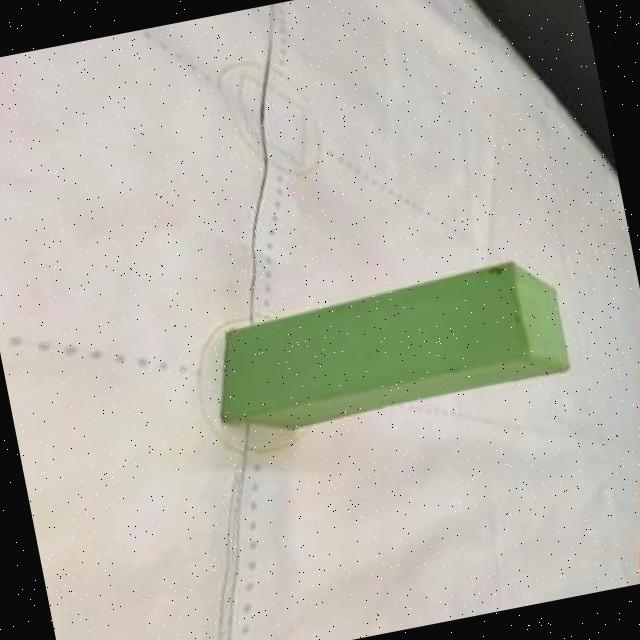greenbox: (206, 251, 576, 442)
